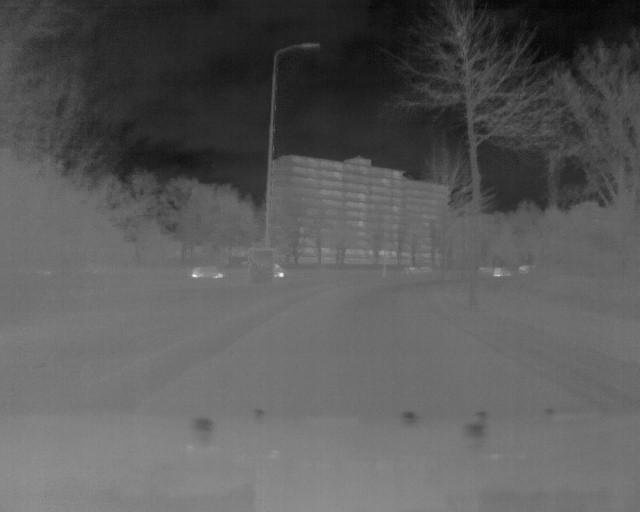car: (190, 263, 225, 281)
